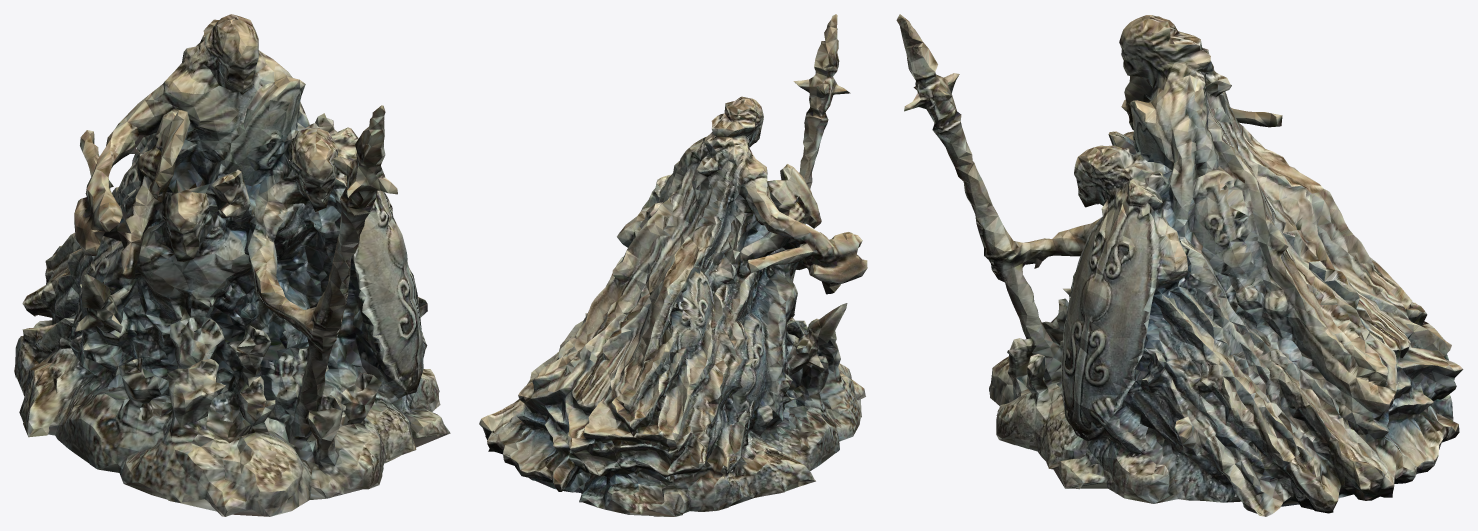
Rendered from slaugh.glb.
3 views of the same model, side by side, from view 1: azimuth 30°, elevation 25°; view 2: azimuth 150°, elevation 25°; view 3: azimuth 270°, elevation 25° (orthographic). The views are drawn at different scales.
Visible parts, largest first — view 1: geometry_0; view 2: geometry_0; view 3: geometry_0.
Boxes of the visible parts, x1,y1,x2,y2 form: geometry_0: (14,14,450,516); geometry_0: (479,14,867,516); geometry_0: (896,14,1463,516).
Size of the model in its own units: 0.0294 by 0.0315 by 0.04.
Materials: 1 (1 with a texture image).
